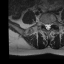CCS_normal: (47, 21, 49, 32)
LFS_normal: (51, 20, 53, 27)
LLS_normal: (49, 21, 51, 30)
RFS_normal: (42, 20, 44, 27)
RLS_normal: (44, 21, 47, 30)
